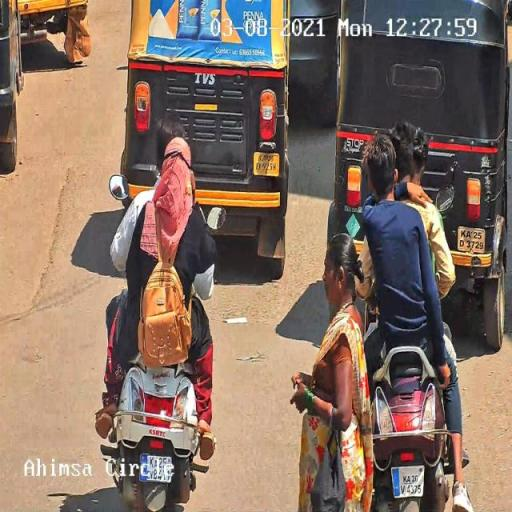tripple riding: (357, 120, 444, 354)
